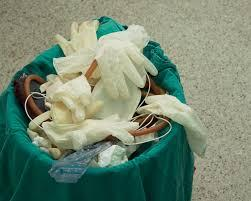Glove: (137, 94, 206, 156), (96, 37, 157, 98), (42, 115, 138, 149), (92, 78, 140, 120), (49, 75, 90, 121), (55, 20, 98, 55), (99, 25, 149, 50), (53, 48, 94, 77)
